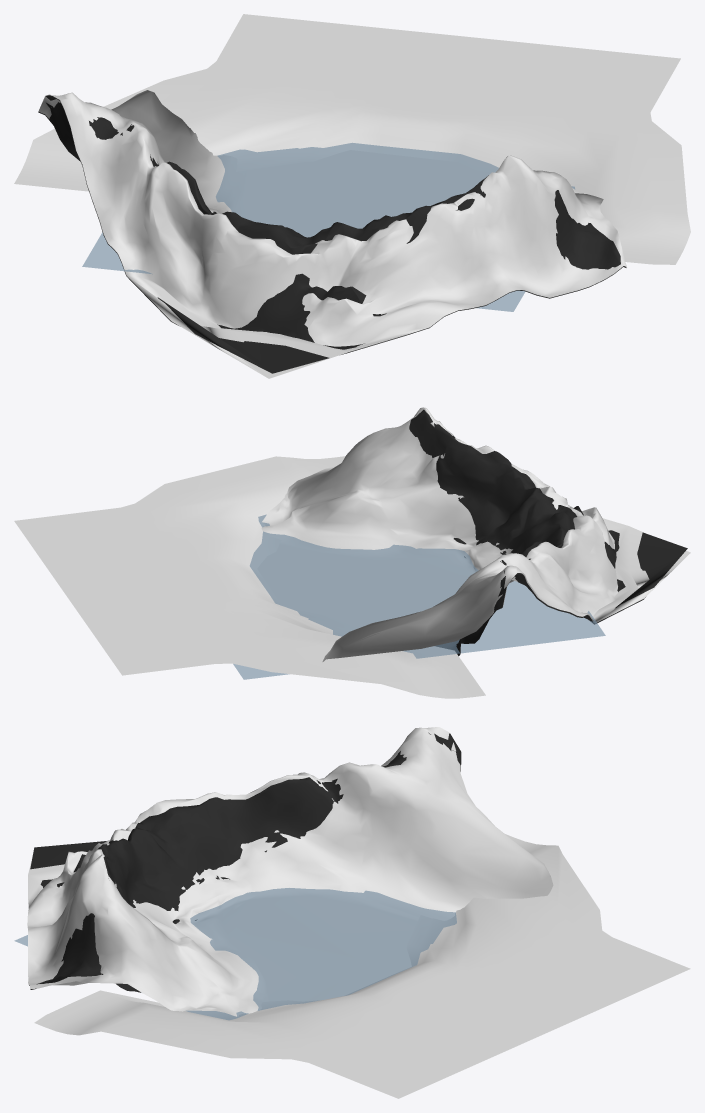
The model's file is Unity Mountain Test.fbx.
The picture shows the model from 3 angles, top to bottom: view 1: azimuth 30°, elevation 25°; view 2: azimuth 150°, elevation 25°; view 3: azimuth 270°, elevation 25°; orthographic projection. The views are drawn at different scales.
Parts seen in each view (by area): view 1: mountains, pPlane2, pPlane1, mountains1; view 2: pPlane2, mountains, pPlane1, mountains1; view 3: mountains, pPlane2, pPlane1, mountains1.
Boxes of the visible parts, bbox=[...] form: mountains: bbox=[38, 90, 626, 378]; pPlane2: bbox=[14, 14, 690, 264]; pPlane1: bbox=[82, 143, 574, 311]; mountains1: bbox=[38, 95, 626, 373]; pPlane2: bbox=[14, 456, 485, 698]; mountains: bbox=[257, 407, 690, 661]; pPlane1: bbox=[233, 514, 605, 679]; mountains1: bbox=[409, 409, 687, 655]; mountains: bbox=[27, 727, 553, 1016]; pPlane2: bbox=[34, 834, 690, 1098]; pPlane1: bbox=[14, 888, 456, 1020]; mountains1: bbox=[29, 732, 461, 992].
Bounding box in the file's own units: 2005 × 399 × 1922.
